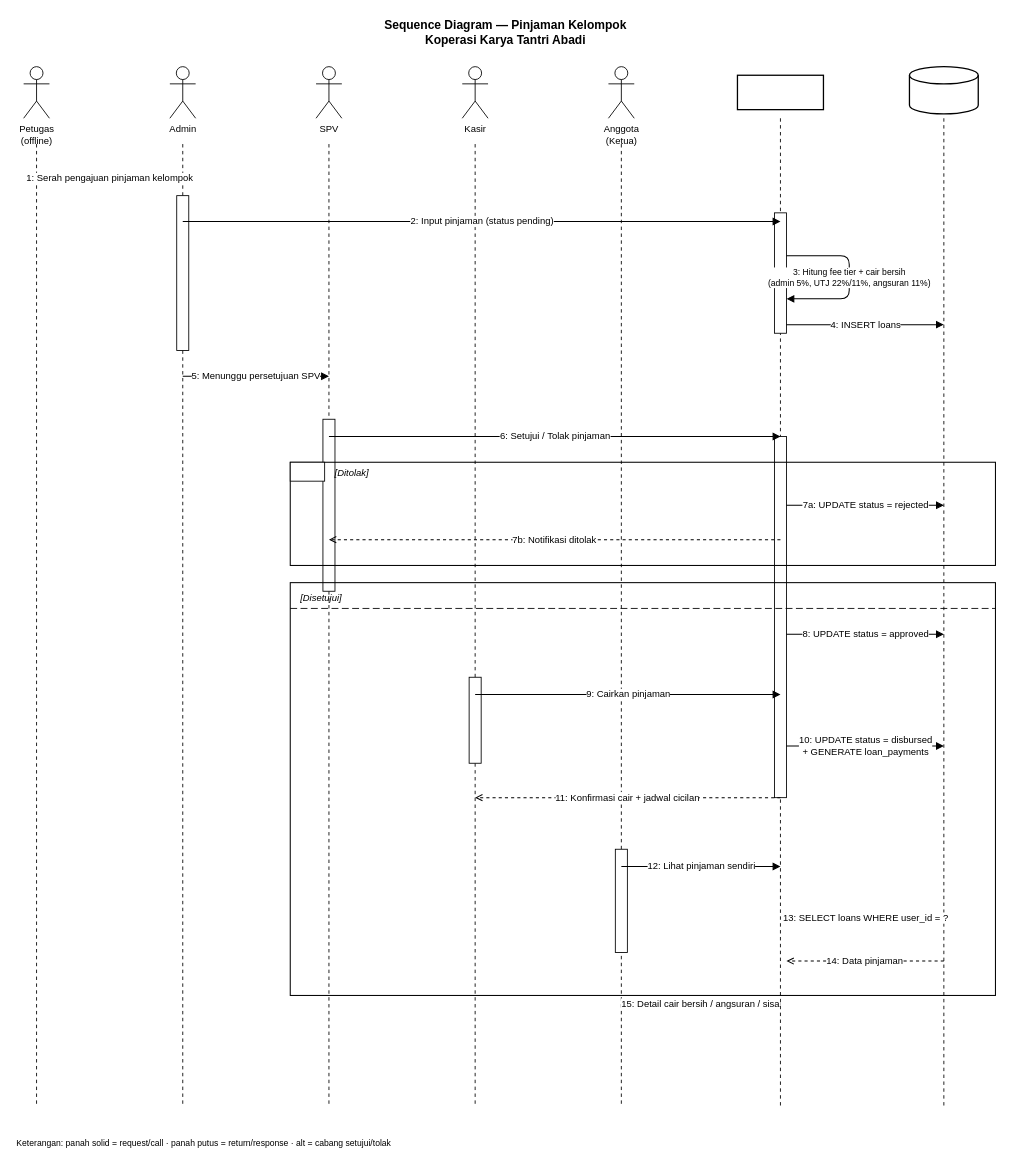
Some shapes in this 1011 by 1168 pixel diagram are drawn without their labels. The centre of each missing label's shape, as x and y in pixels:
"alt" belongs at pixel 307 471.
"MySQL" belongs at pixel 943 90.
"Sistem" belongs at pixel 780 92.
